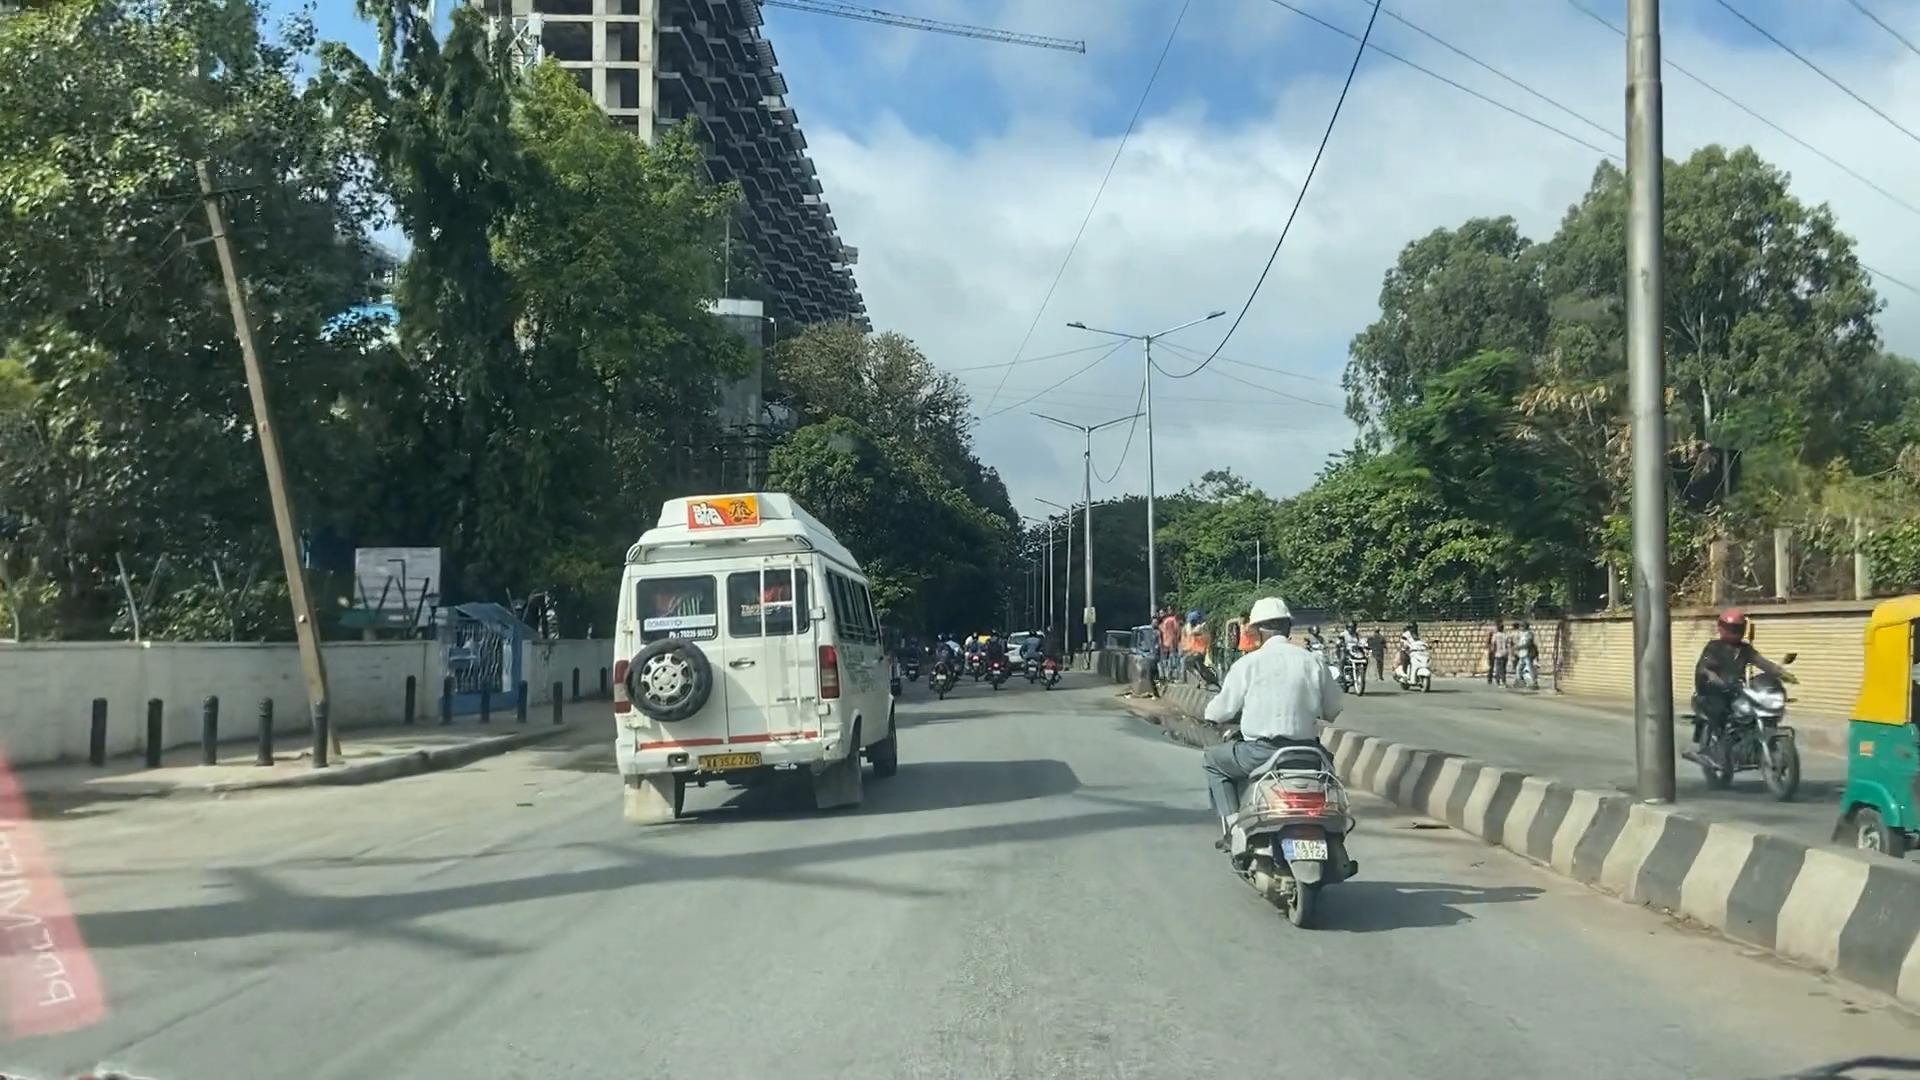HMV: (583, 491, 914, 812), (1191, 600, 1373, 931)
